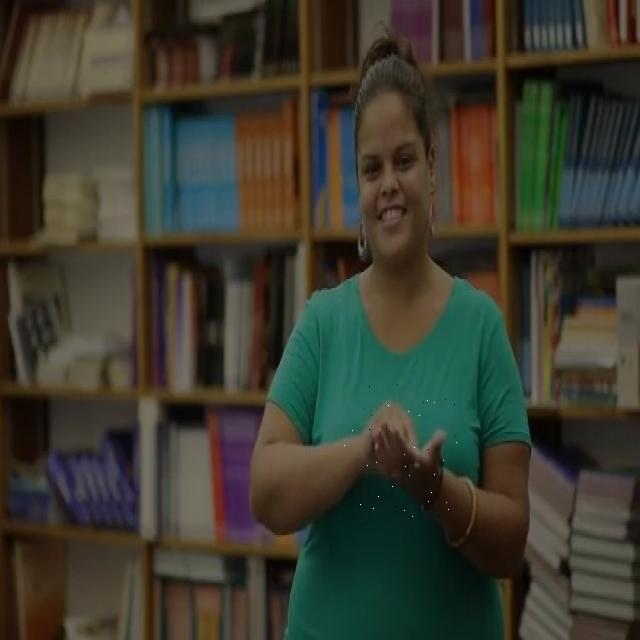chicken: (344, 384, 462, 522)
